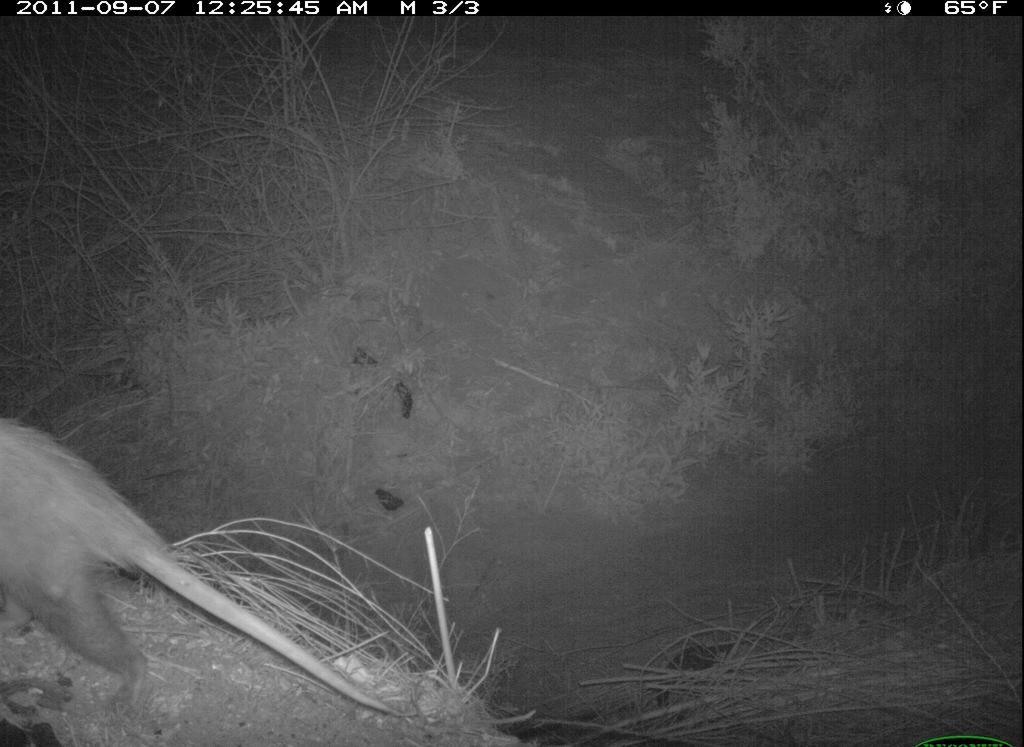opossum: (2, 411, 422, 737)
